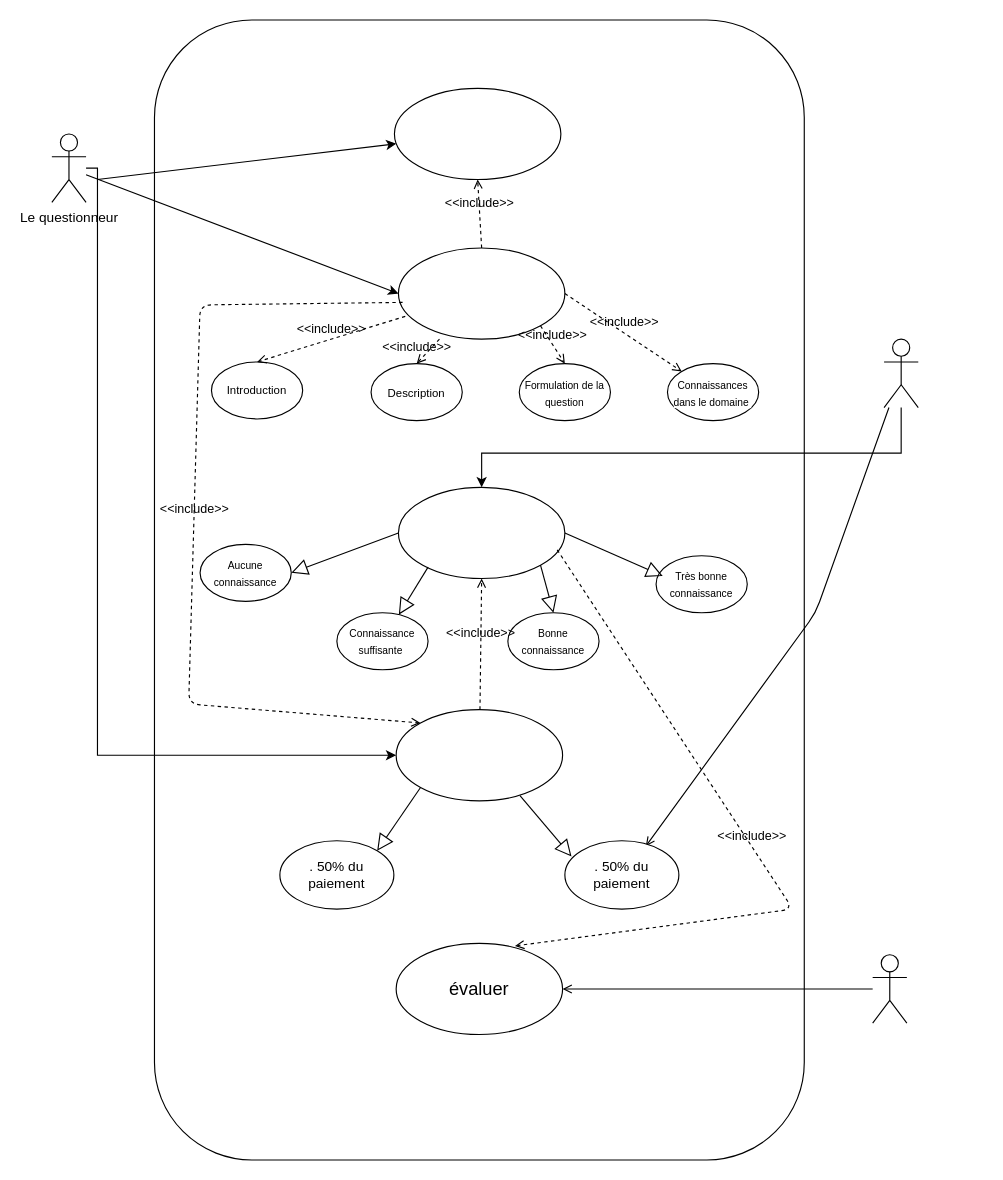
Image size: 1003x1180. Some labels were removed from this diagram. Each missing label, with the centre of its shape:
les rédacteurs de réponses: [900,373]
paiement: [479,755]
question: [481,293]
réponses: [481,532]
s'inscrire: [477,133]
système de notation: [889,988]
